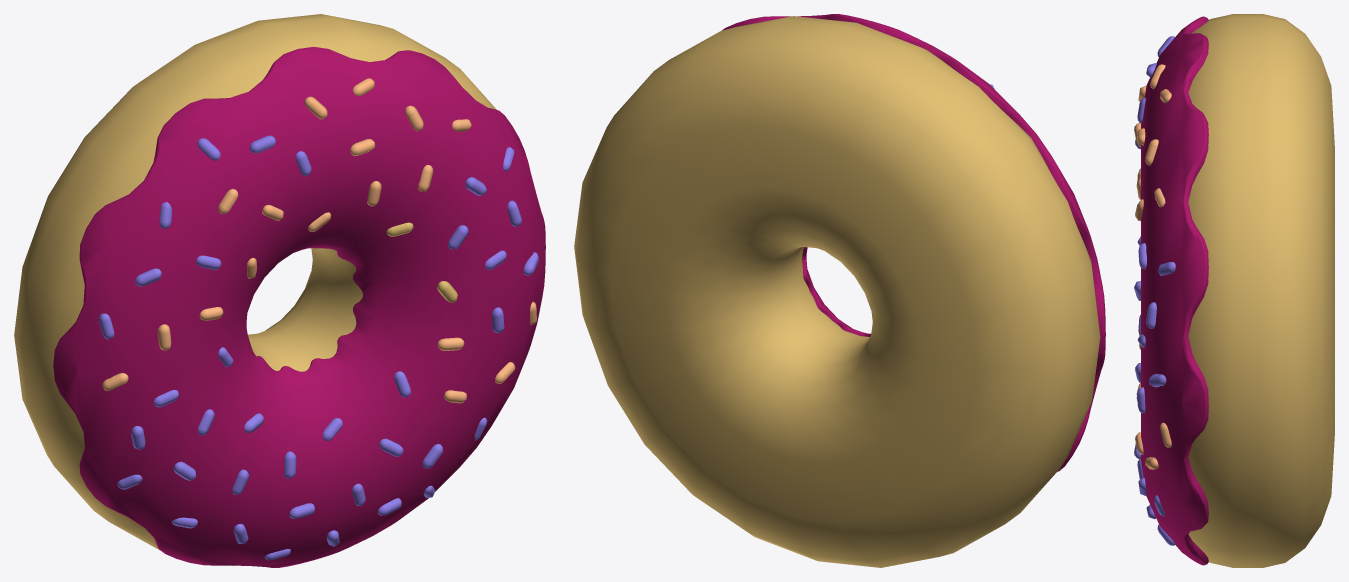
The model's file is colored-donut.glb.
The picture shows the model from 3 angles, left to right: view 1: azimuth 30°, elevation 25°; view 2: azimuth 150°, elevation 25°; view 3: azimuth 270°, elevation 25°; orthographic projection. The views are drawn at different scales.
Visible parts, largest first — view 1: VR_headset polySurface313, nose3 polySurface313, nose2 polySurface313, nose3 polySurface313_1, nose2 polySurface313_1, nose3 polySurface313_2, stache polySurface313, nose4 polySurface313; view 2: nose2 polySurface313_1, nose3 polySurface313_1, nose3 polySurface313, stache polySurface313; view 3: nose3 polySurface313_1, nose2 polySurface313_1, VR_headset polySurface313, nose3 polySurface313, stache polySurface313, nose3 polySurface313_2.
Part boxes in pixels (box(x1,y1,x2,y2)): VR_headset polySurface313: box(294, 47, 545, 559); nose3 polySurface313: box(53, 49, 538, 560); nose2 polySurface313: box(53, 252, 332, 567); nose3 polySurface313_1: box(14, 14, 496, 565); nose2 polySurface313_1: box(21, 17, 459, 521); nose3 polySurface313_2: box(102, 78, 536, 403); stache polySurface313: box(303, 243, 545, 562); nose4 polySurface313: box(55, 326, 305, 432); nose2 polySurface313_1: box(574, 20, 1092, 567); nose3 polySurface313_1: box(582, 16, 1100, 556); nose3 polySurface313: box(857, 18, 1105, 336); stache polySurface313: box(802, 257, 864, 336); nose3 polySurface313_1: box(1139, 14, 1305, 567); nose2 polySurface313_1: box(1233, 14, 1334, 567); VR_headset polySurface313: box(1141, 41, 1208, 551); nose3 polySurface313: box(1134, 16, 1208, 545); stache polySurface313: box(1180, 402, 1208, 565); nose3 polySurface313_2: box(1134, 64, 1171, 469).
Size of the model in its own units: 20 by 20 by 7.22.
